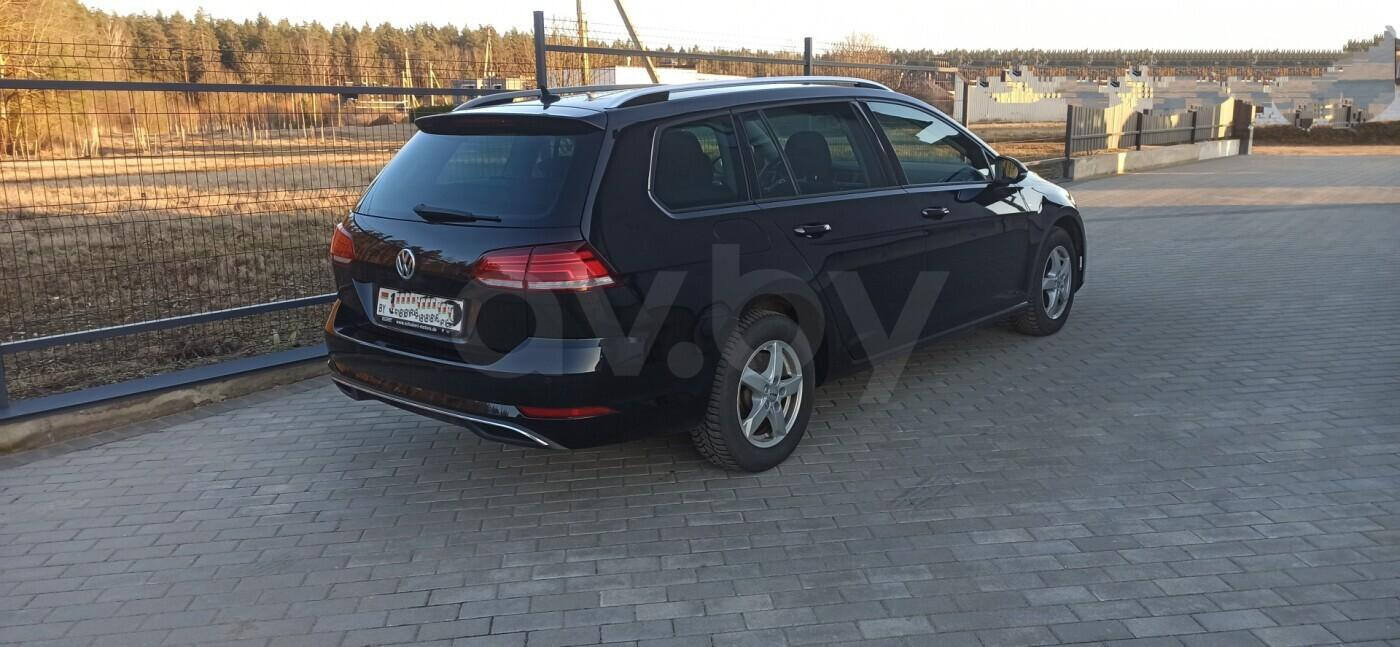Golf_2017-2021: (323, 80, 1089, 471)
